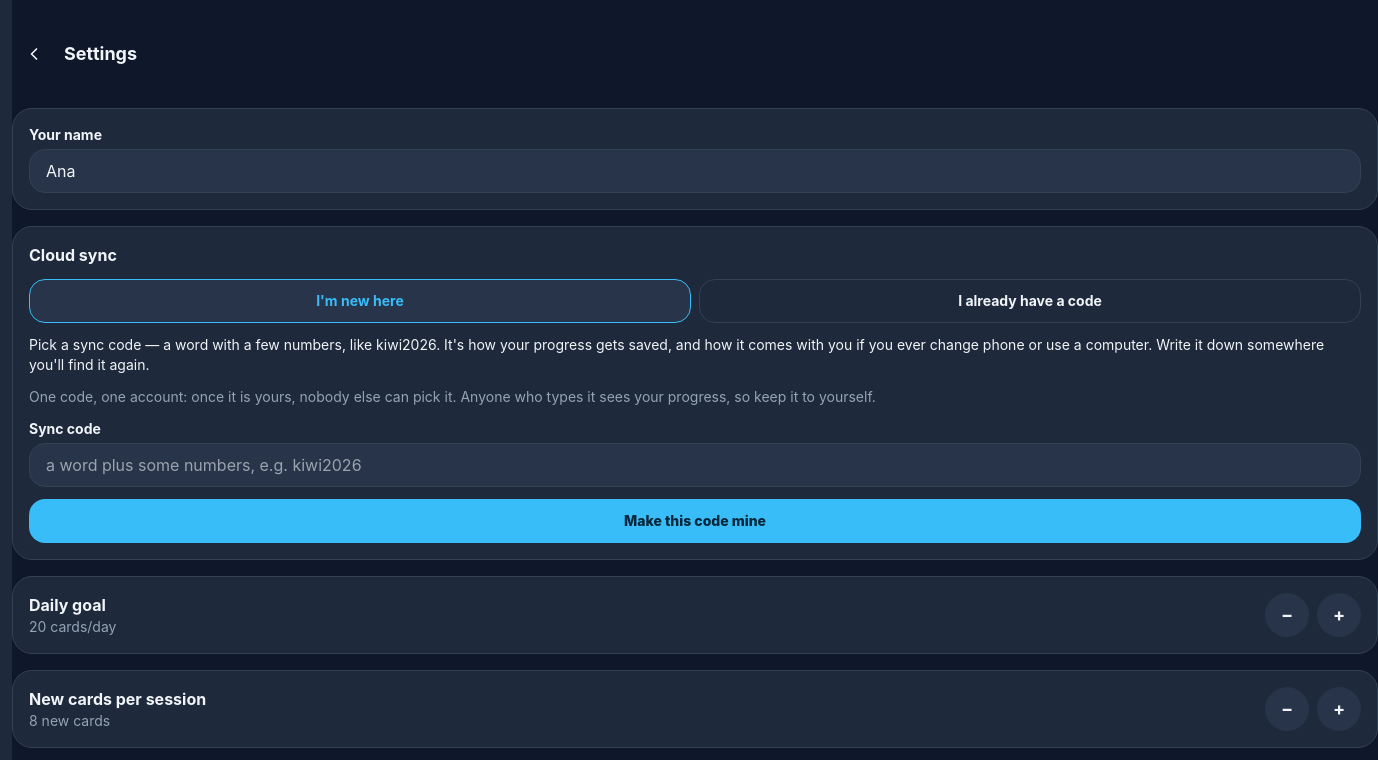
Test: Settings with Supabase configured › says so plainly when the cloud cannot be reached
The image size is (1378, 760).
Click the radio button labelled "I already have a code". click: (1030, 301)
box: [699,279,1361,323]
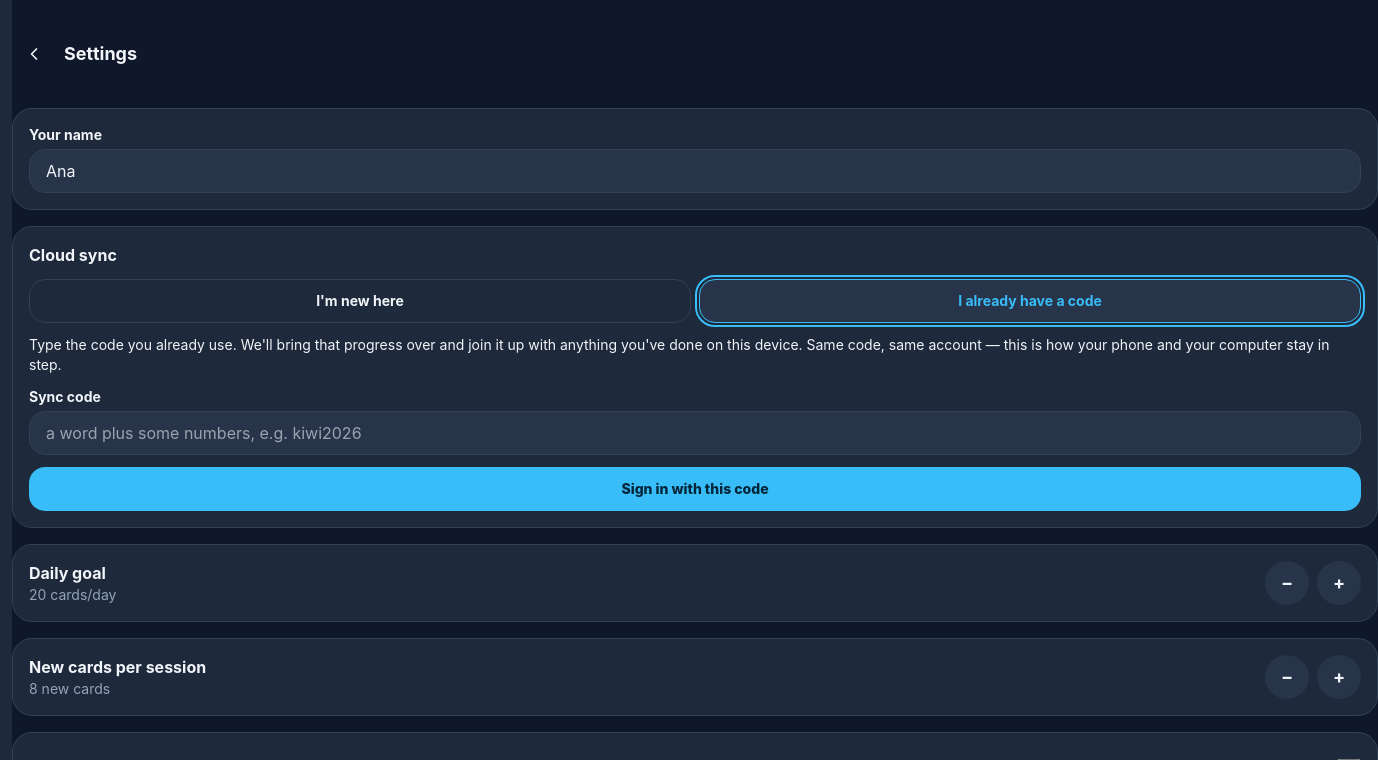
Type "kiwi2026" into the field labelled "Sync code". click: (695, 433)
box: [29,411,1361,455]
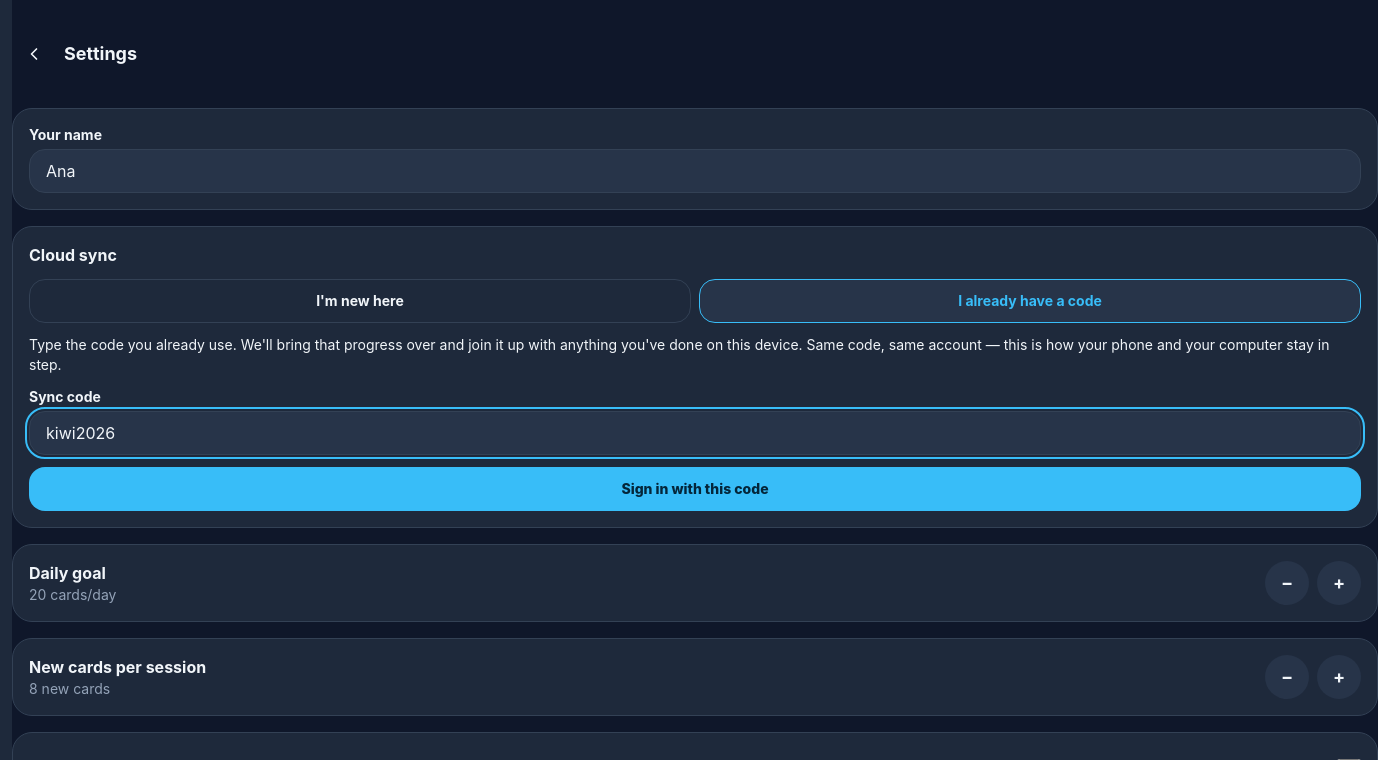
Click the button "Sign in with this code". click: (695, 489)
box: [29,467,1361,511]
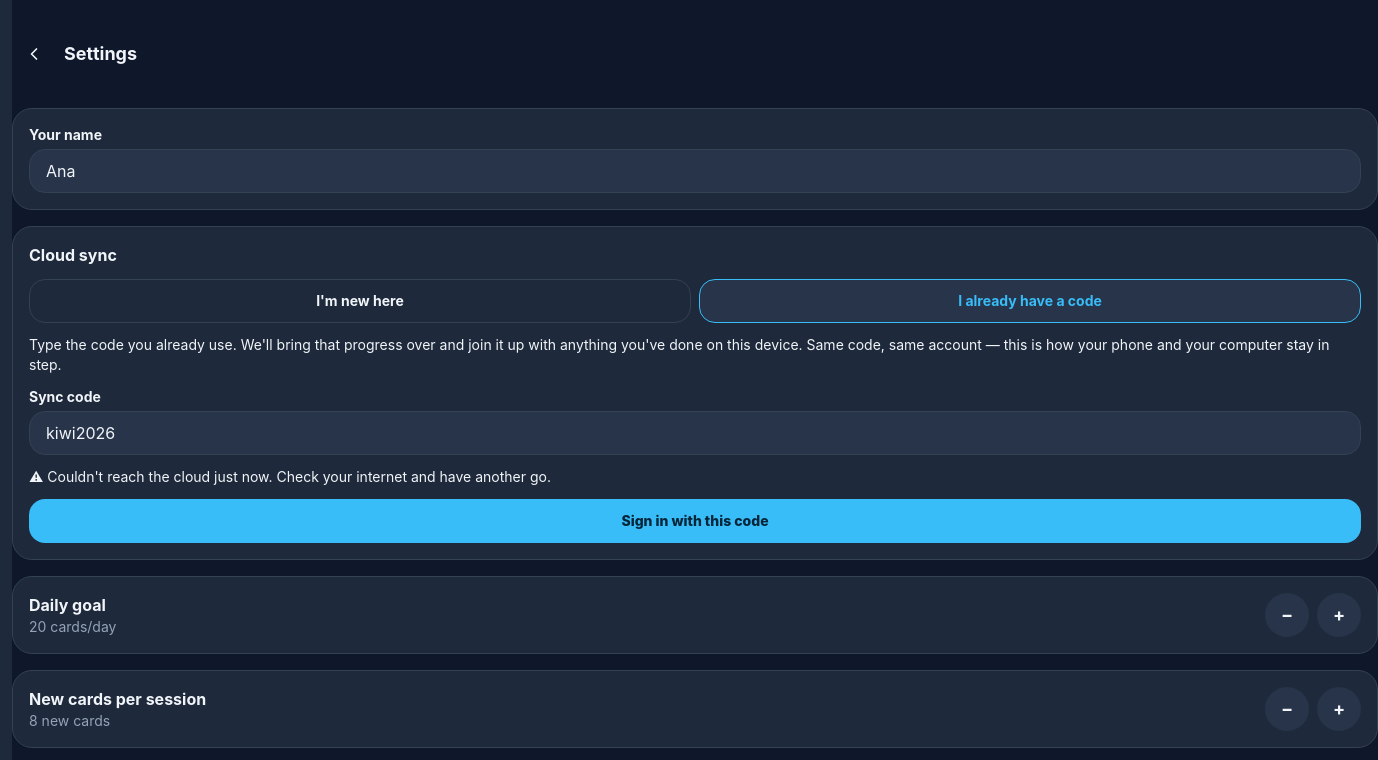
Expected: the text "⚠︎ Couldn't reach the cloud just now. Check your internet and have another go." is shown, [29,468,551,485]
